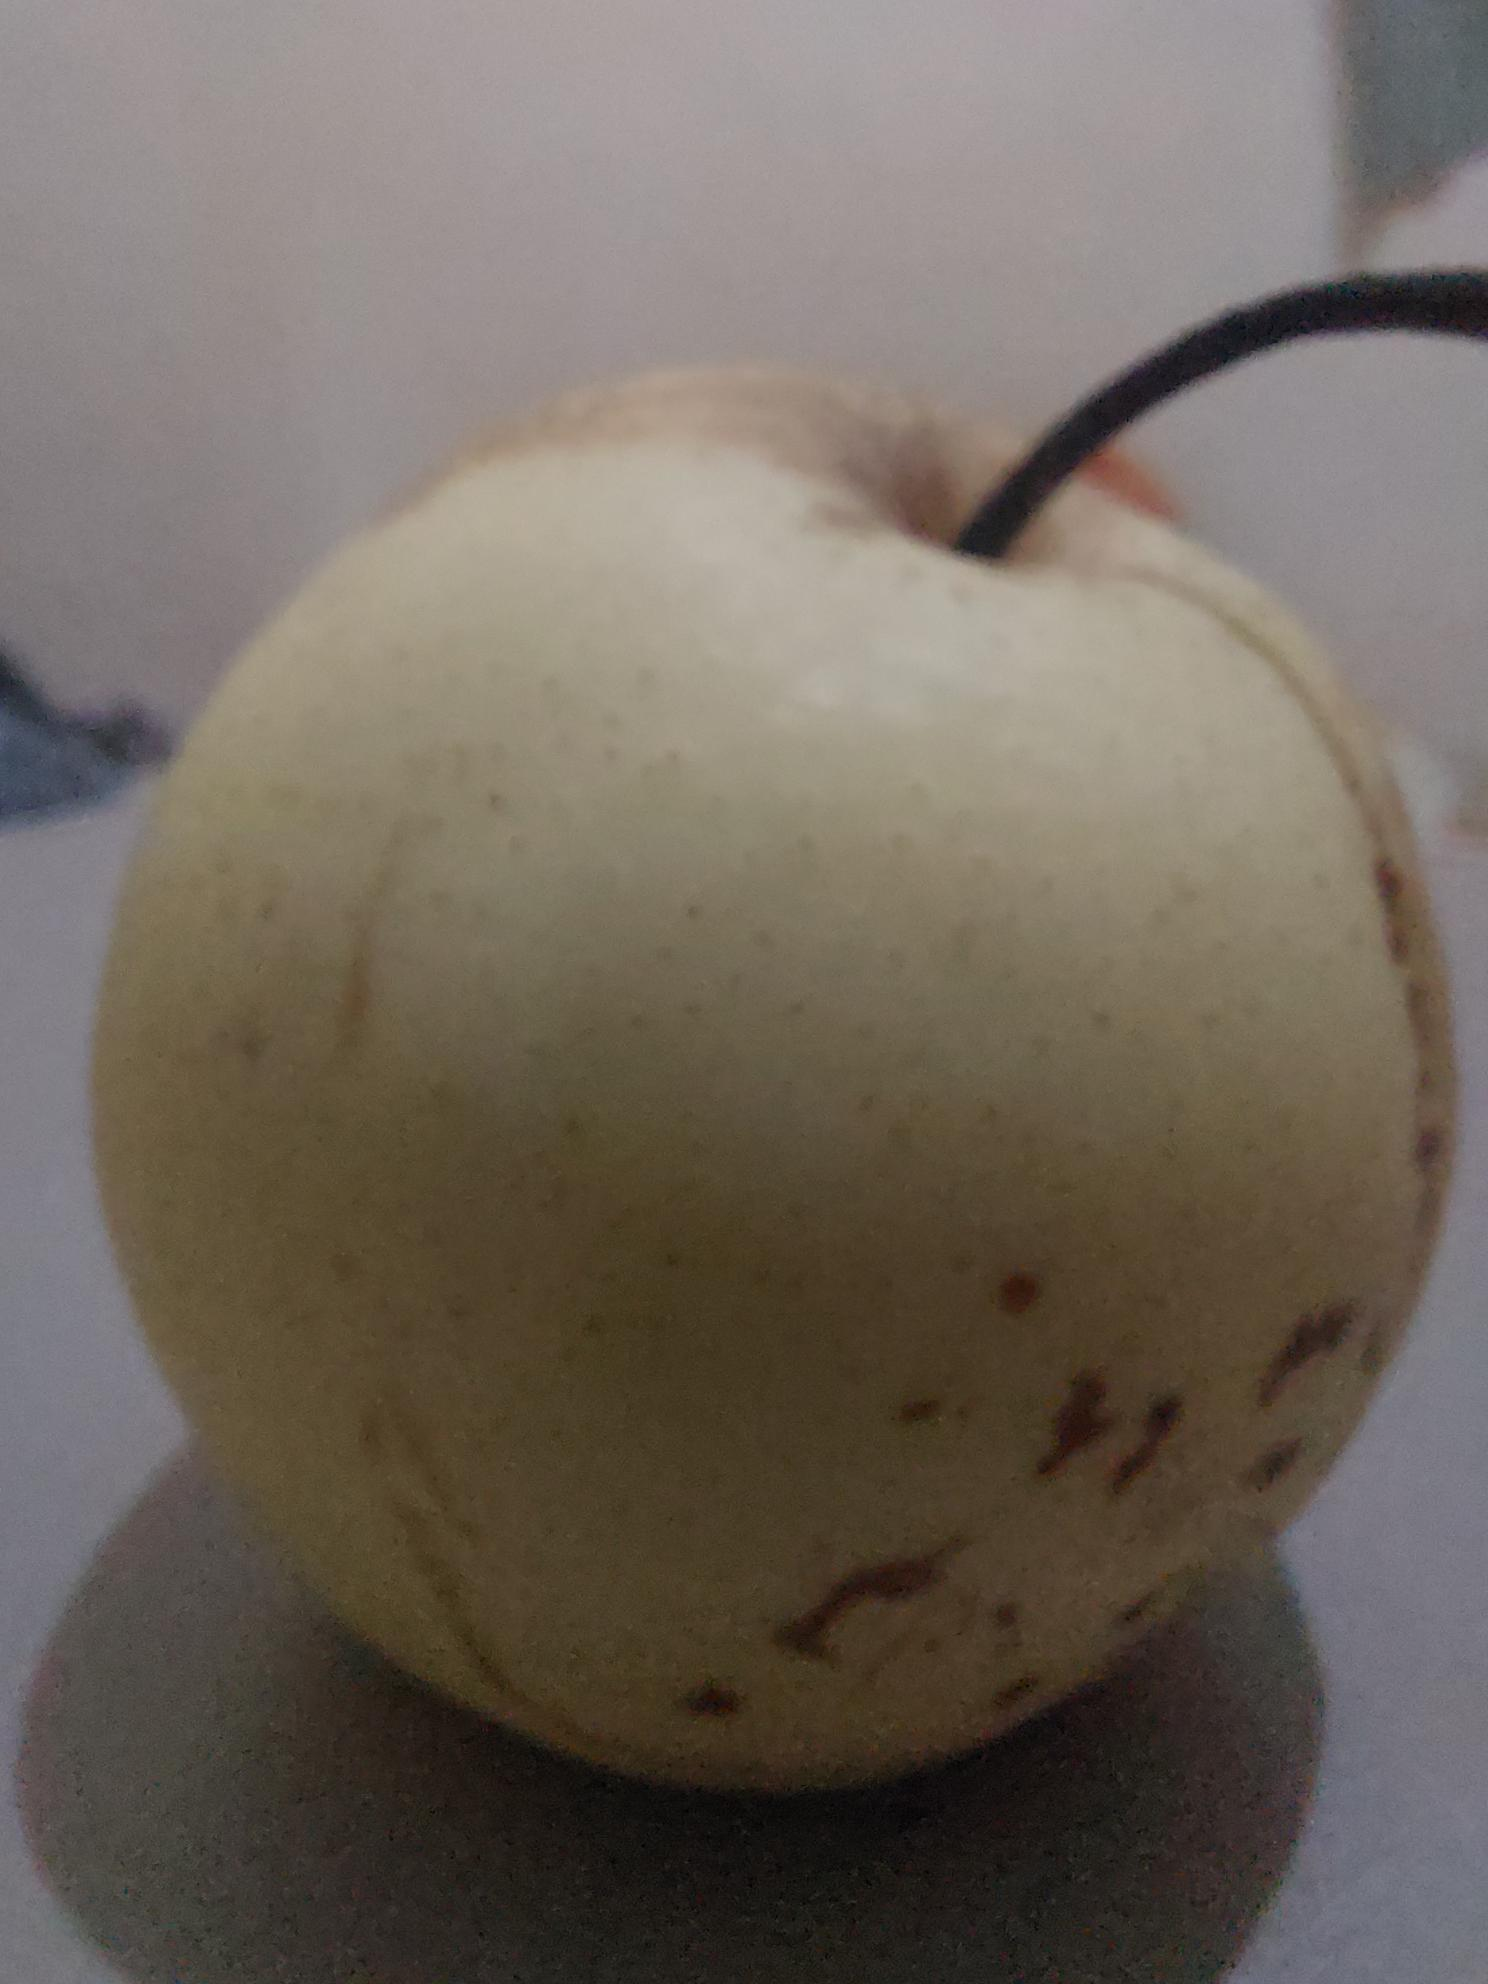Bad Pear: (83, 509, 1444, 1775)
